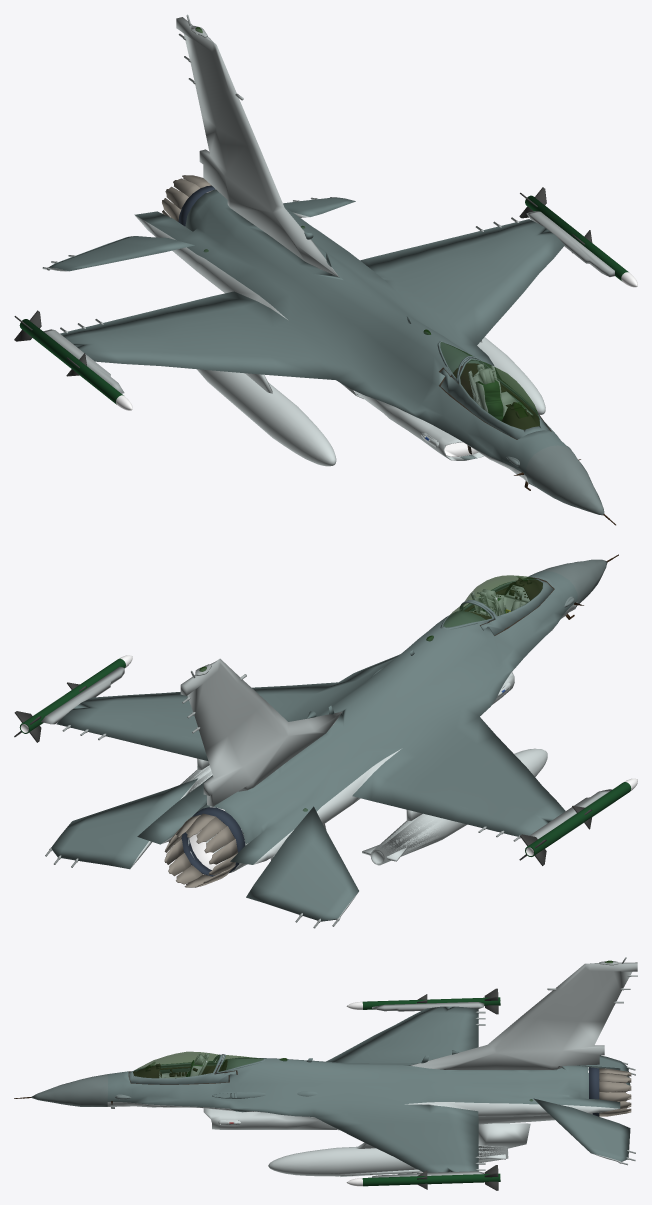
3 renders of one model, top to bottom at view 1: azimuth 30°, elevation 25°; view 2: azimuth 150°, elevation 25°; view 3: azimuth 270°, elevation 25°, orthographic. The views are drawn at different scales.
Visible parts, largest first — view 1: f16_fuselage, f16_right_fuel_tank, f16_horizontal_stabilizer, f16_front_canopy, f16_right_AMRAAM, f16_front_canopy_frame, f16_left_AMRAAM, f16_left_fuel_tank, f16_cockpit, f16_engine, f16_left_wing_pivot, f16_right_wing_pivot; view 2: f16_fuselage, f16_horizontal_stabilizer, f16_engine, f16_right_fuel_tank, f16_front_canopy, f16_right_AMRAAM, f16_left_AMRAAM, f16_front_canopy_frame, f16_cockpit, f16_left_wing_pivot, f16_rear_canopy, f16_right_wing_pivot; view 3: f16_fuselage, f16_left_fuel_tank, f16_horizontal_stabilizer, f16_front_canopy, f16_engine, f16_left_AMRAAM, f16_front_canopy_frame, f16_right_AMRAAM, f16_right_wing_pivot, f16_cockpit, f16_rear_canopy, f16_left_wing_pivot.
Boxes of the visible parts, x1,y1,x2,y2 form: f16_fuselage: (60, 14, 615, 525); f16_right_fuel_tank: (197, 369, 336, 466); f16_horizontal_stabilizer: (42, 197, 355, 271); f16_front_canopy: (460, 359, 539, 429); f16_right_AMRAAM: (14, 310, 132, 410); f16_front_canopy_frame: (440, 358, 550, 439); f16_left_AMRAAM: (519, 187, 637, 287); f16_left_fuel_tank: (477, 337, 545, 414); f16_cockpit: (468, 364, 531, 421); f16_engine: (162, 175, 215, 226); f16_left_wing_pivot: (526, 211, 614, 276); f16_right_wing_pivot: (43, 329, 124, 393); f16_fuselage: (56, 554, 618, 873); f16_horizontal_stabilizer: (45, 778, 358, 928); f16_engine: (164, 806, 245, 887); f16_right_fuel_tank: (362, 748, 547, 865); f16_front_canopy: (464, 575, 542, 615); f16_right_AMRAAM: (519, 778, 637, 865); f16_left_AMRAAM: (14, 655, 132, 742); f16_front_canopy_frame: (461, 578, 553, 635); f16_cockpit: (469, 585, 529, 616); f16_left_wing_pivot: (41, 667, 124, 724); f16_rear_canopy: (443, 603, 491, 627); f16_right_wing_pivot: (530, 789, 611, 838); f16_fuselage: (14, 957, 637, 1172); f16_left_fuel_tank: (268, 1142, 508, 1177); f16_horizontal_stabilizer: (533, 1055, 635, 1165); f16_front_canopy: (133, 1051, 219, 1077); f16_engine: (588, 1067, 631, 1116); f16_left_AMRAAM: (346, 1165, 500, 1190); f16_front_canopy_frame: (129, 1054, 236, 1084); f16_right_AMRAAM: (346, 988, 500, 1014); f16_right_wing_pivot: (372, 1002, 484, 1011); f16_cockpit: (159, 1053, 209, 1078); f16_rear_canopy: (218, 1055, 263, 1071); f16_left_wing_pivot: (372, 1171, 484, 1177).
Bounding box in the file's own units: 6327 × 2912 × 9030.
